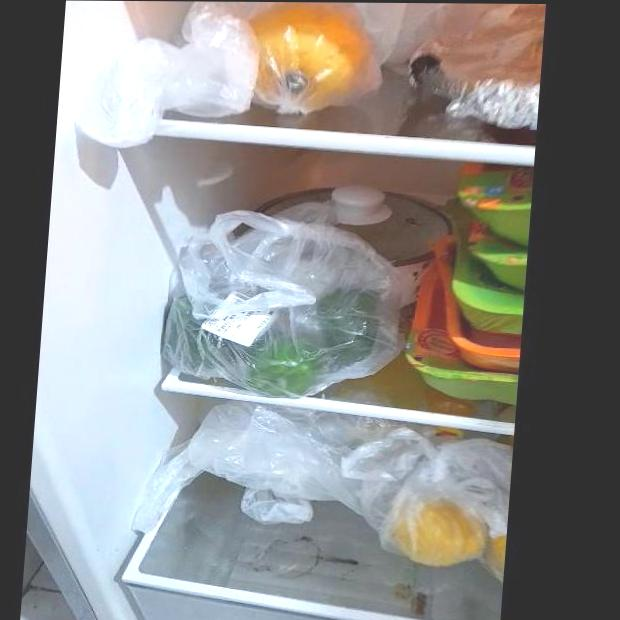lemon: (235, 2, 372, 104), (393, 499, 489, 564)
